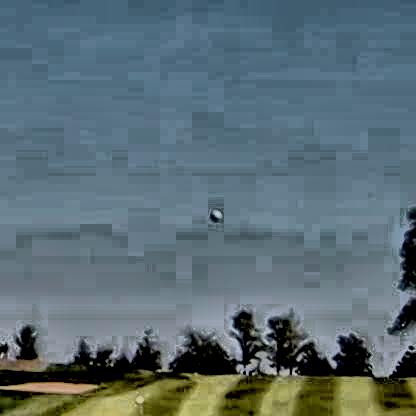golfball: (207, 206, 219, 219)
